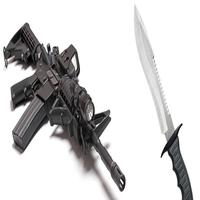knife: (127, 1, 193, 199)
